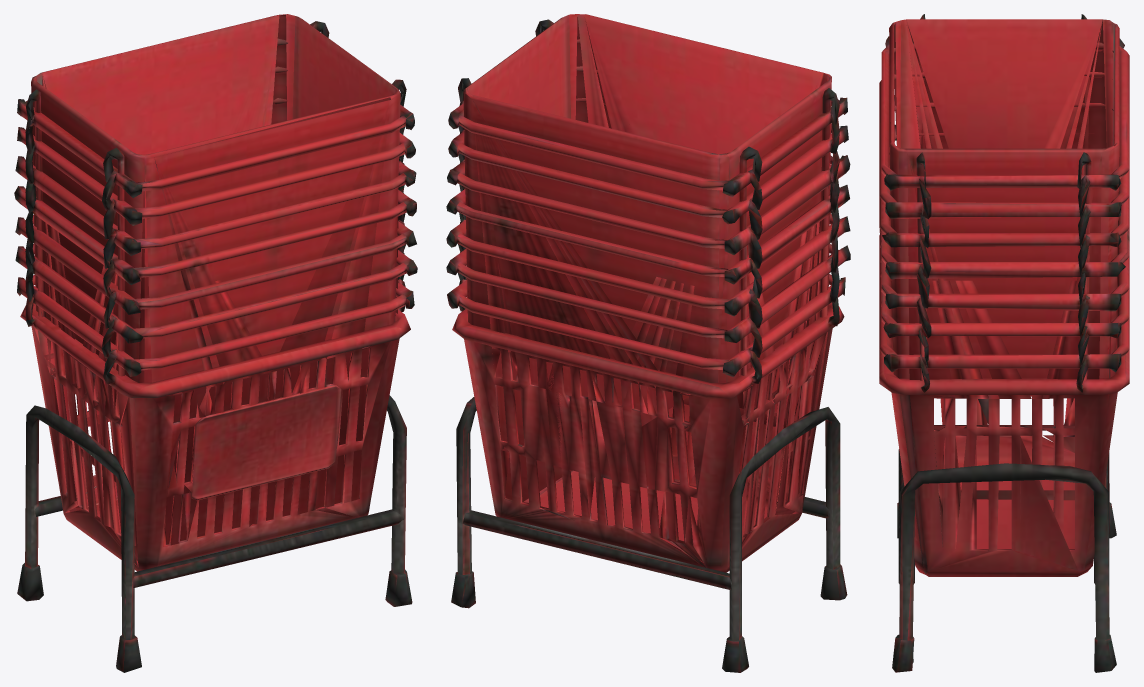
File: p7-basket-stack-t25.glb
3 views of the same model, side by side, from view 1: azimuth 30°, elevation 25°; view 2: azimuth 150°, elevation 25°; view 3: azimuth 270°, elevation 25° (orthographic).
Parts seen in each view (by area): view 1: p7-basket-stack-t25; view 2: p7-basket-stack-t25; view 3: p7-basket-stack-t25.
Boxes of the visible parts, x1,y1,x2,y2 form: p7-basket-stack-t25: (14, 14, 417, 672); p7-basket-stack-t25: (446, 14, 850, 672); p7-basket-stack-t25: (879, 14, 1129, 672).
Bounding box in the file's own units: 0.493 × 0.8 × 0.35.
Materials: 1 (1 with a texture image).
